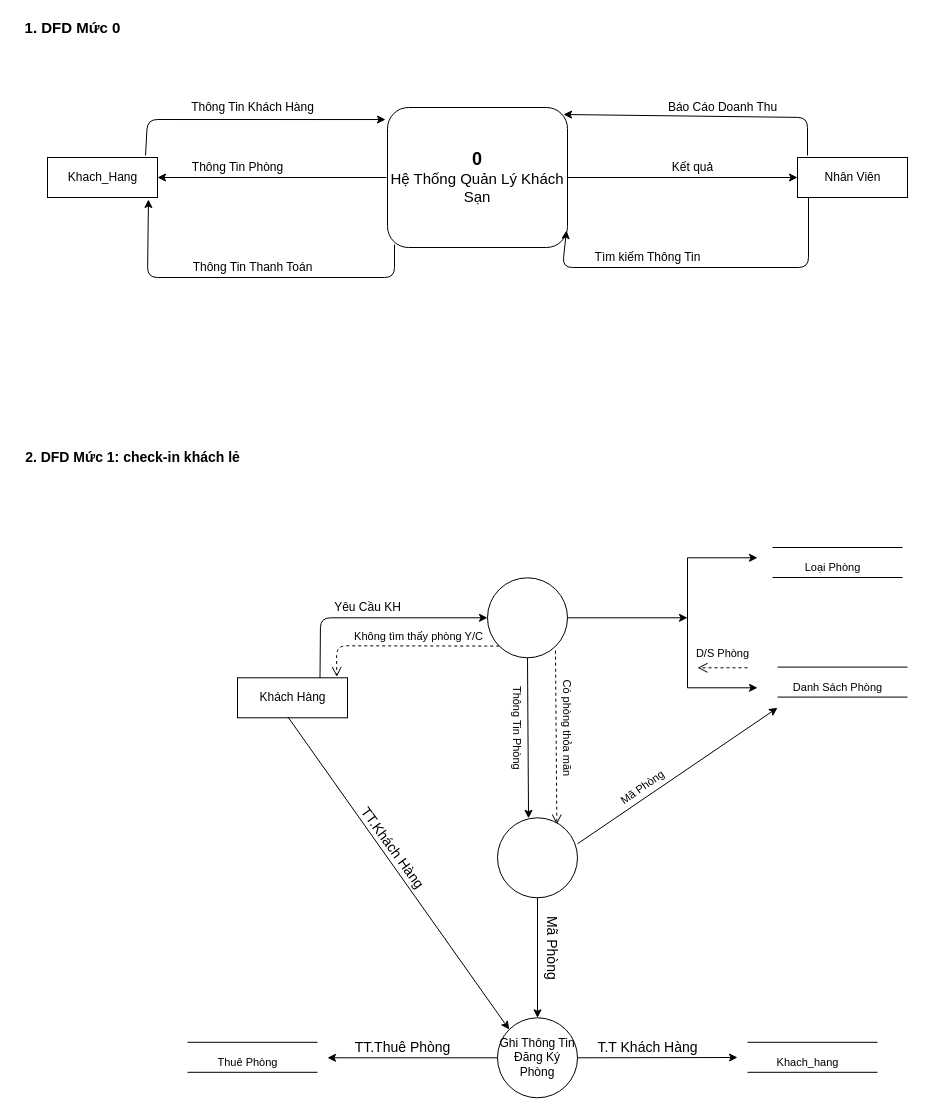
Some shapes in this 926 by 1115 pixel diagram are drawn without their labels. Here are the shapes that lost their labels. From the top down, the centre of each, then its label:
(527,617): Tìm Kiếm Theo Y/C
(537,857): Thay đổi trạng thái phòng
